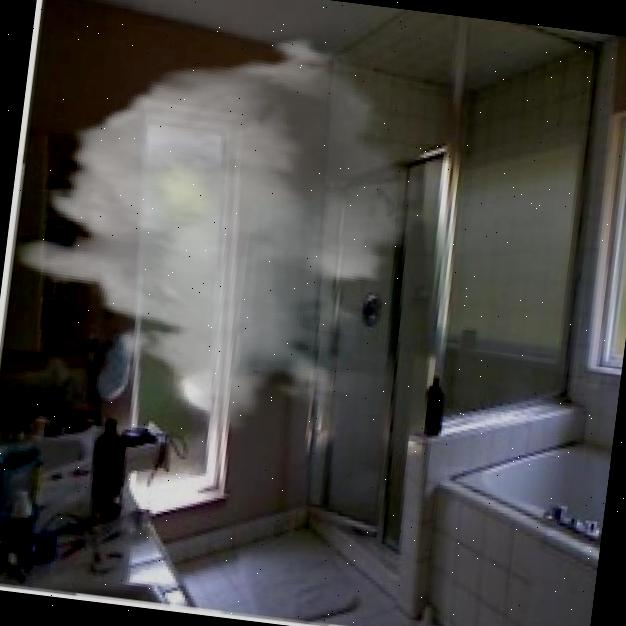smoke: (0, 2, 459, 455)
